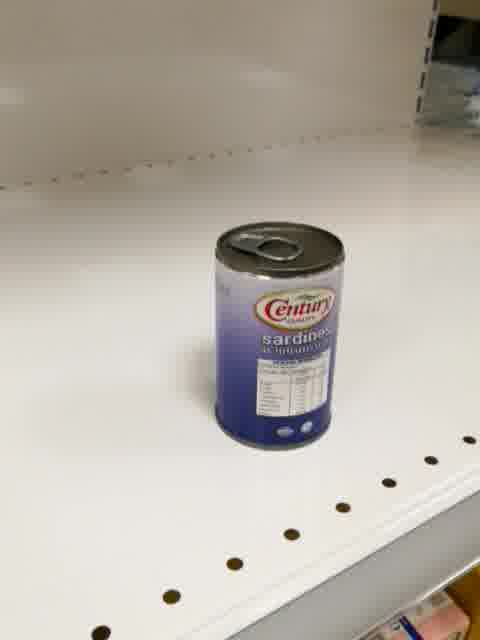sardine: (213, 219, 347, 452)
